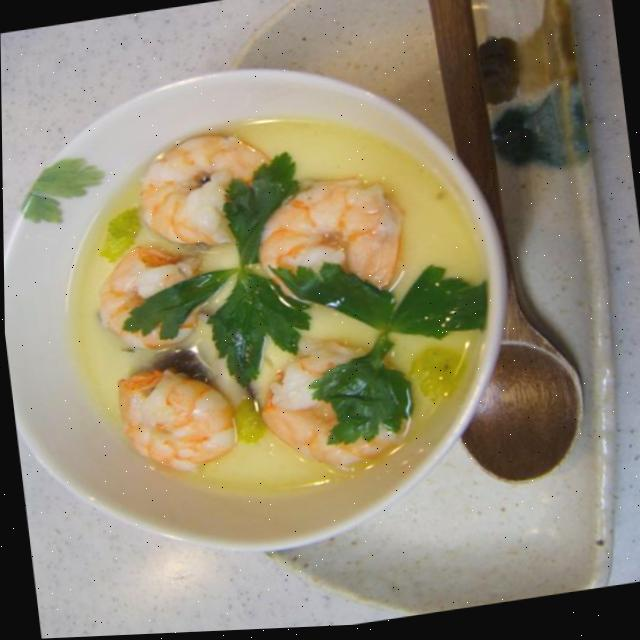鸡蛋料理: (1, 65, 577, 557)
